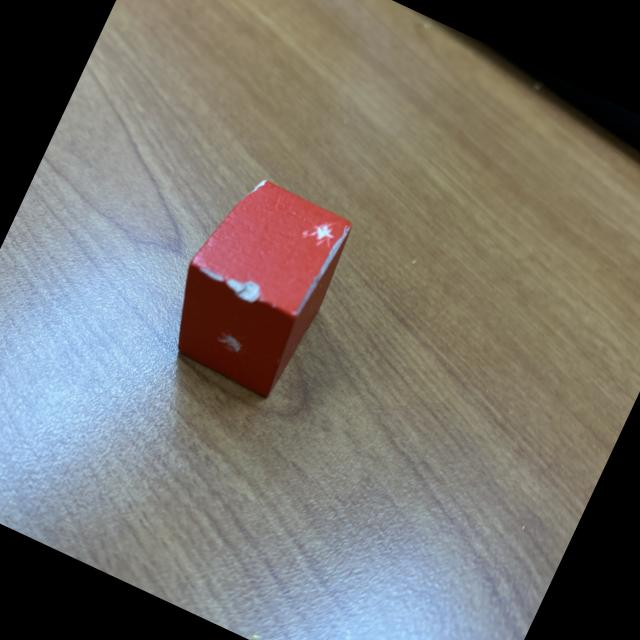broken: (152, 165, 360, 404)
